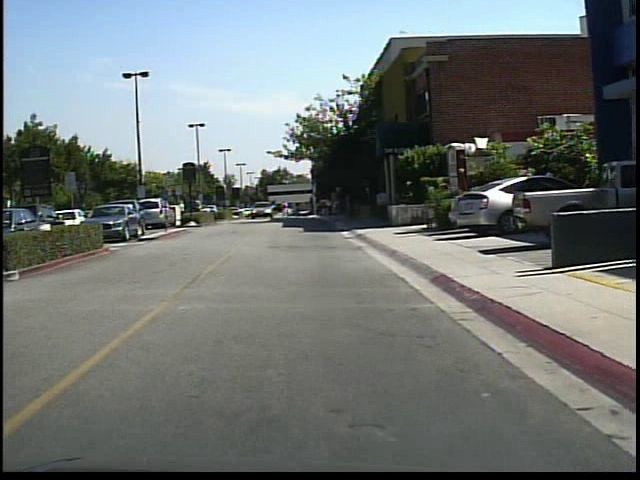person: (173, 194, 190, 226), (276, 196, 290, 223)
